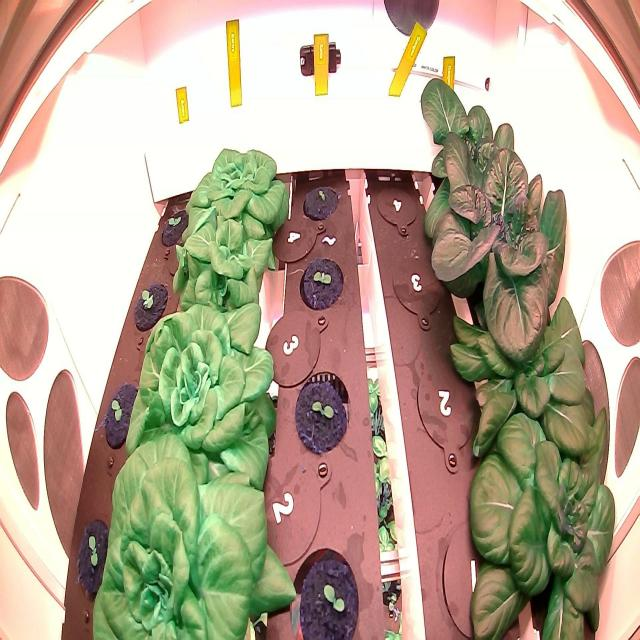Ready: (422, 121, 580, 367), (414, 62, 537, 234)
empty_pod: (431, 504, 524, 640), (408, 347, 483, 473), (387, 241, 446, 331), (374, 170, 422, 238)
germination: (288, 538, 364, 639), (290, 364, 356, 463), (70, 514, 116, 600), (94, 381, 144, 456), (294, 255, 352, 319), (297, 171, 343, 229), (130, 275, 172, 336), (157, 198, 188, 252)
young: (93, 432, 300, 640), (460, 387, 620, 640), (444, 278, 612, 491), (119, 288, 280, 504), (170, 189, 280, 323), (180, 142, 292, 245)
